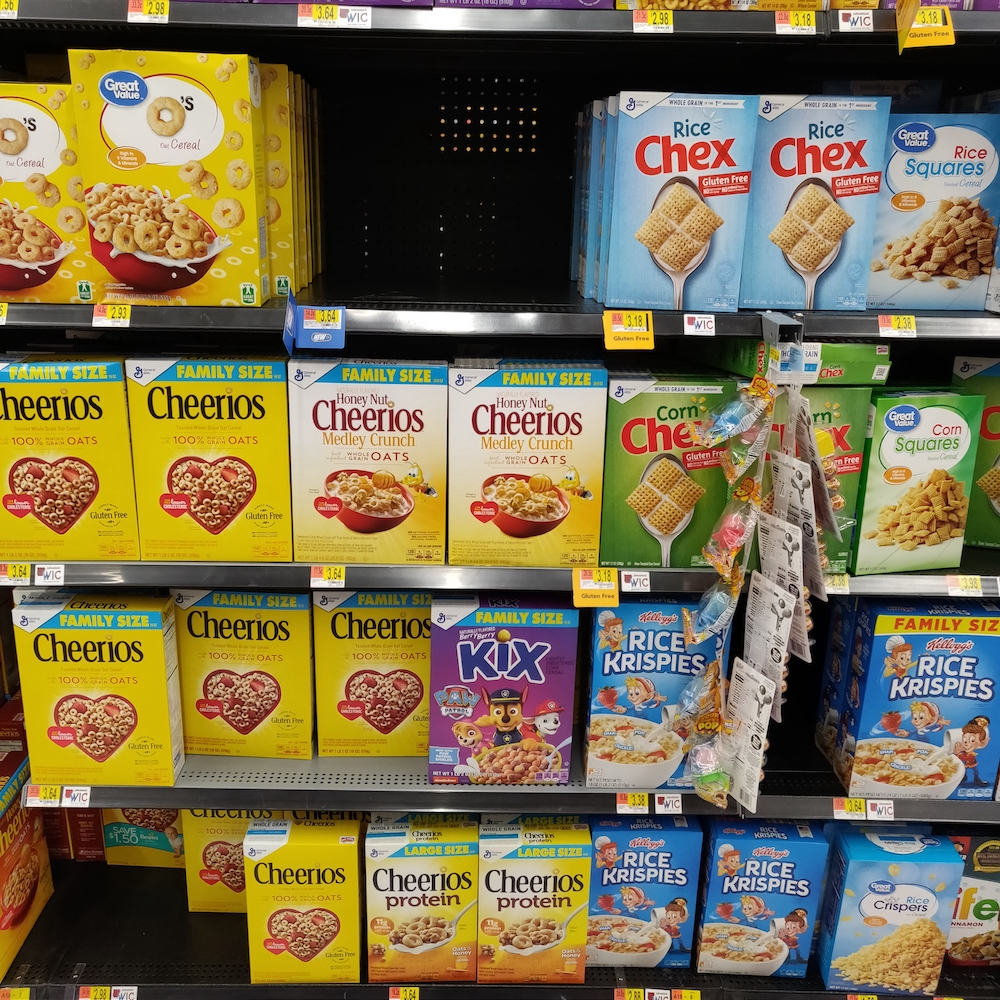Kix Berry -568919964: (428, 630, 574, 788)
